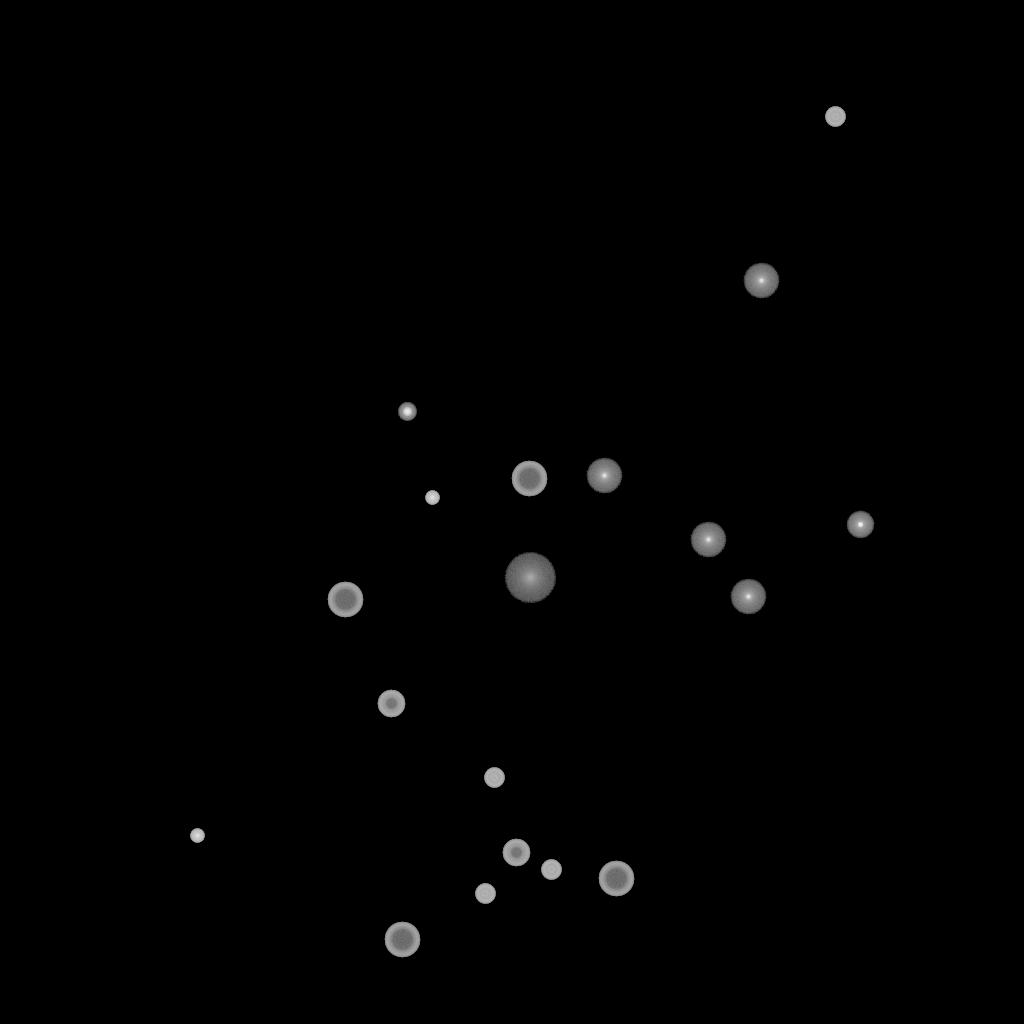depth:-10: (846, 511, 874, 539)
depth:-20: (398, 403, 416, 421)
depth:-30: (425, 491, 439, 505), (190, 829, 204, 843)
depth:-40: (825, 107, 845, 127), (475, 884, 495, 904), (484, 768, 504, 788), (541, 860, 561, 880)
depth:-50: (377, 690, 405, 718), (502, 839, 530, 867)
depth:-60: (598, 861, 634, 897), (384, 922, 420, 958), (511, 461, 547, 497), (327, 582, 363, 618)
depth:0: (586, 458, 622, 494), (690, 522, 726, 558), (743, 263, 779, 299), (730, 579, 766, 615)
depth:20: (504, 553, 556, 603)
